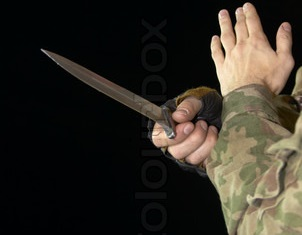knife: (33, 41, 203, 149)
